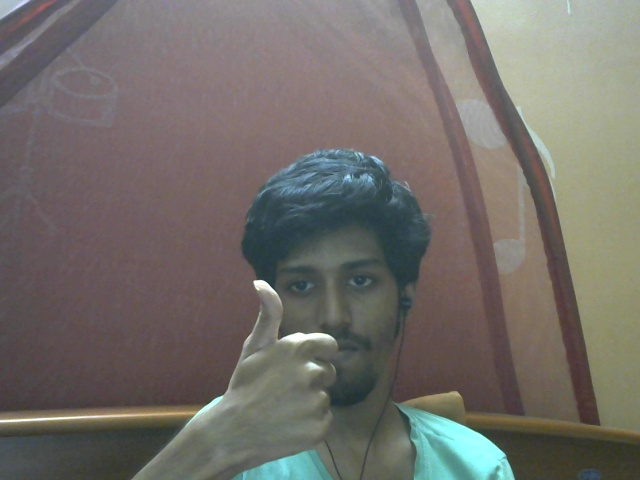ThumbsUp: (228, 279, 339, 470)
